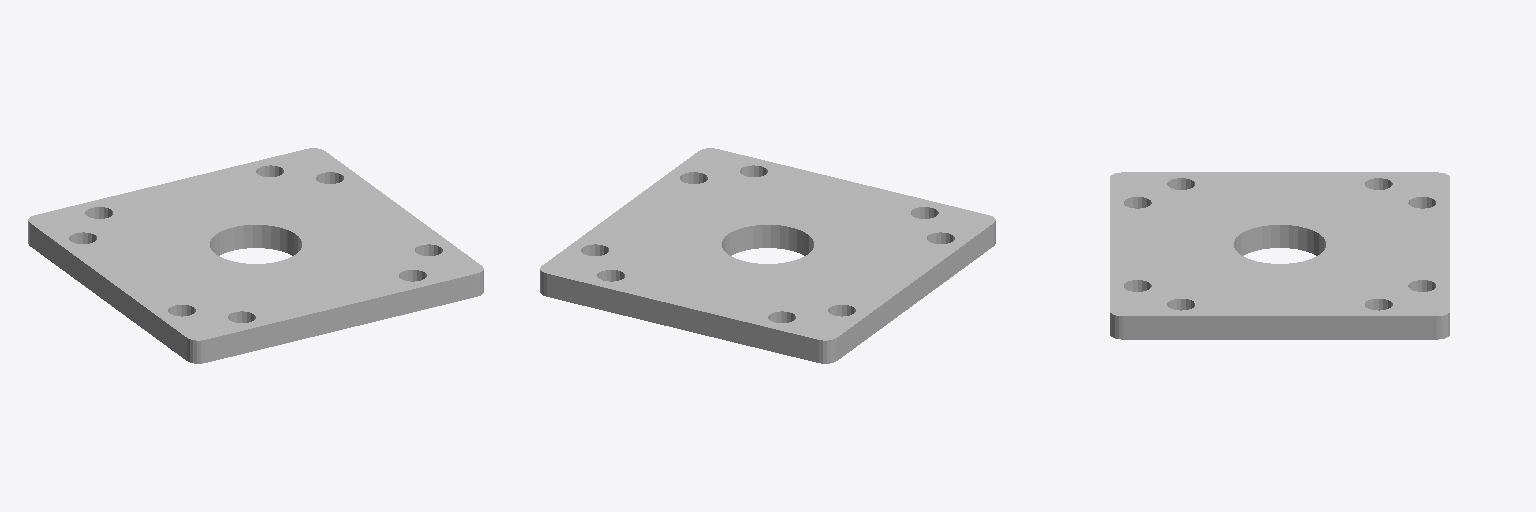
Rendered from Cube 1x1 V5_Top Mount (SM05).obj.
The picture shows the model from 3 angles: view 1: azimuth 30°, elevation 25°; view 2: azimuth 150°, elevation 25°; view 3: azimuth 270°, elevation 25°; orthographic projection.
Visible parts, largest first — view 1: Solid1:38; view 2: Solid1:38; view 3: Solid1:38.
Boxes of the visible parts, <box> form: Solid1:38: <box>28,148,483,363</box>; Solid1:38: <box>540,148,995,363</box>; Solid1:38: <box>1110,172,1449,339</box>.
Size of the model in its own units: 49.75 by 3.75 by 49.75.